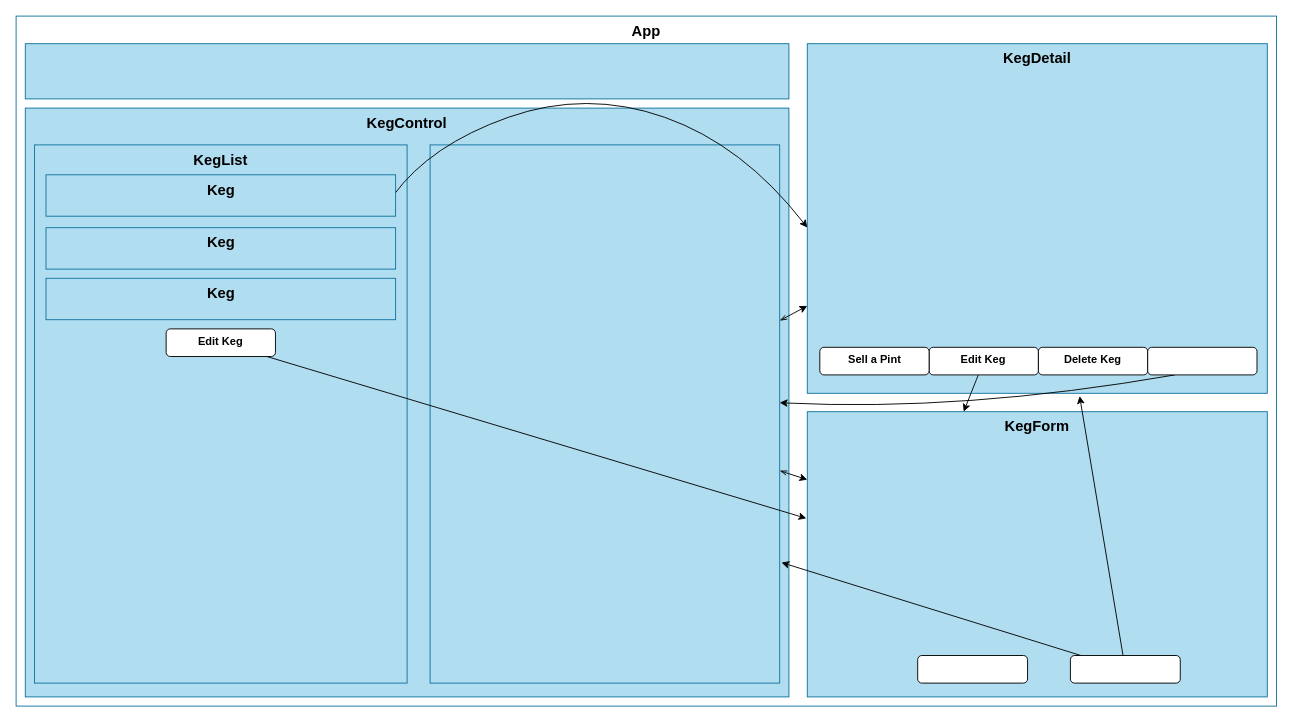
This 1293x722 diagram has some shape labels left out. Here are the shapes that lost their labels. From the top down, the centre of each, then its label:
At [406,71]: "Header".
At [1202,360]: "Close Keg Details".
At [604,413]: "Image".
At [972,669]: "Add Keg".
At [1125,669]: "Go Back".
